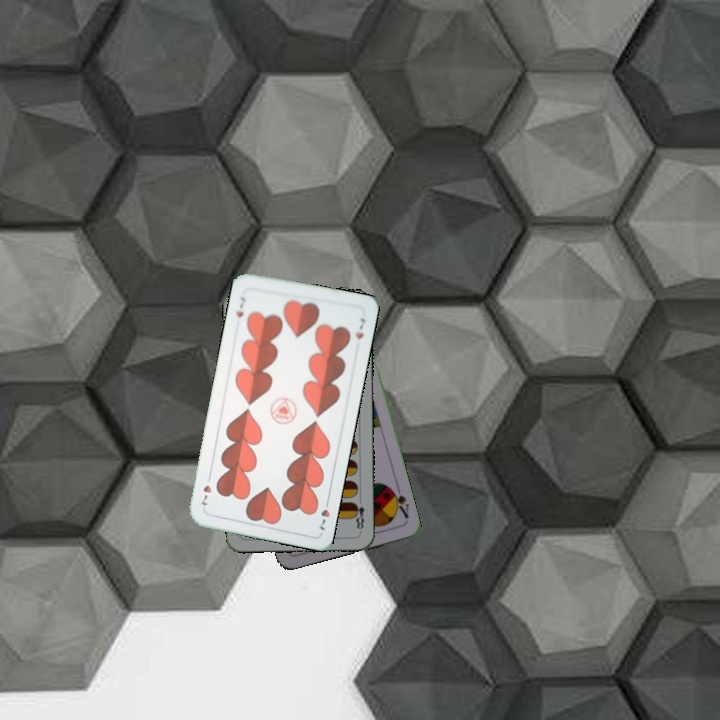E8: (350, 493, 367, 534)
H7: (315, 494, 333, 533), (232, 293, 248, 320)
SA: (386, 483, 411, 521)
